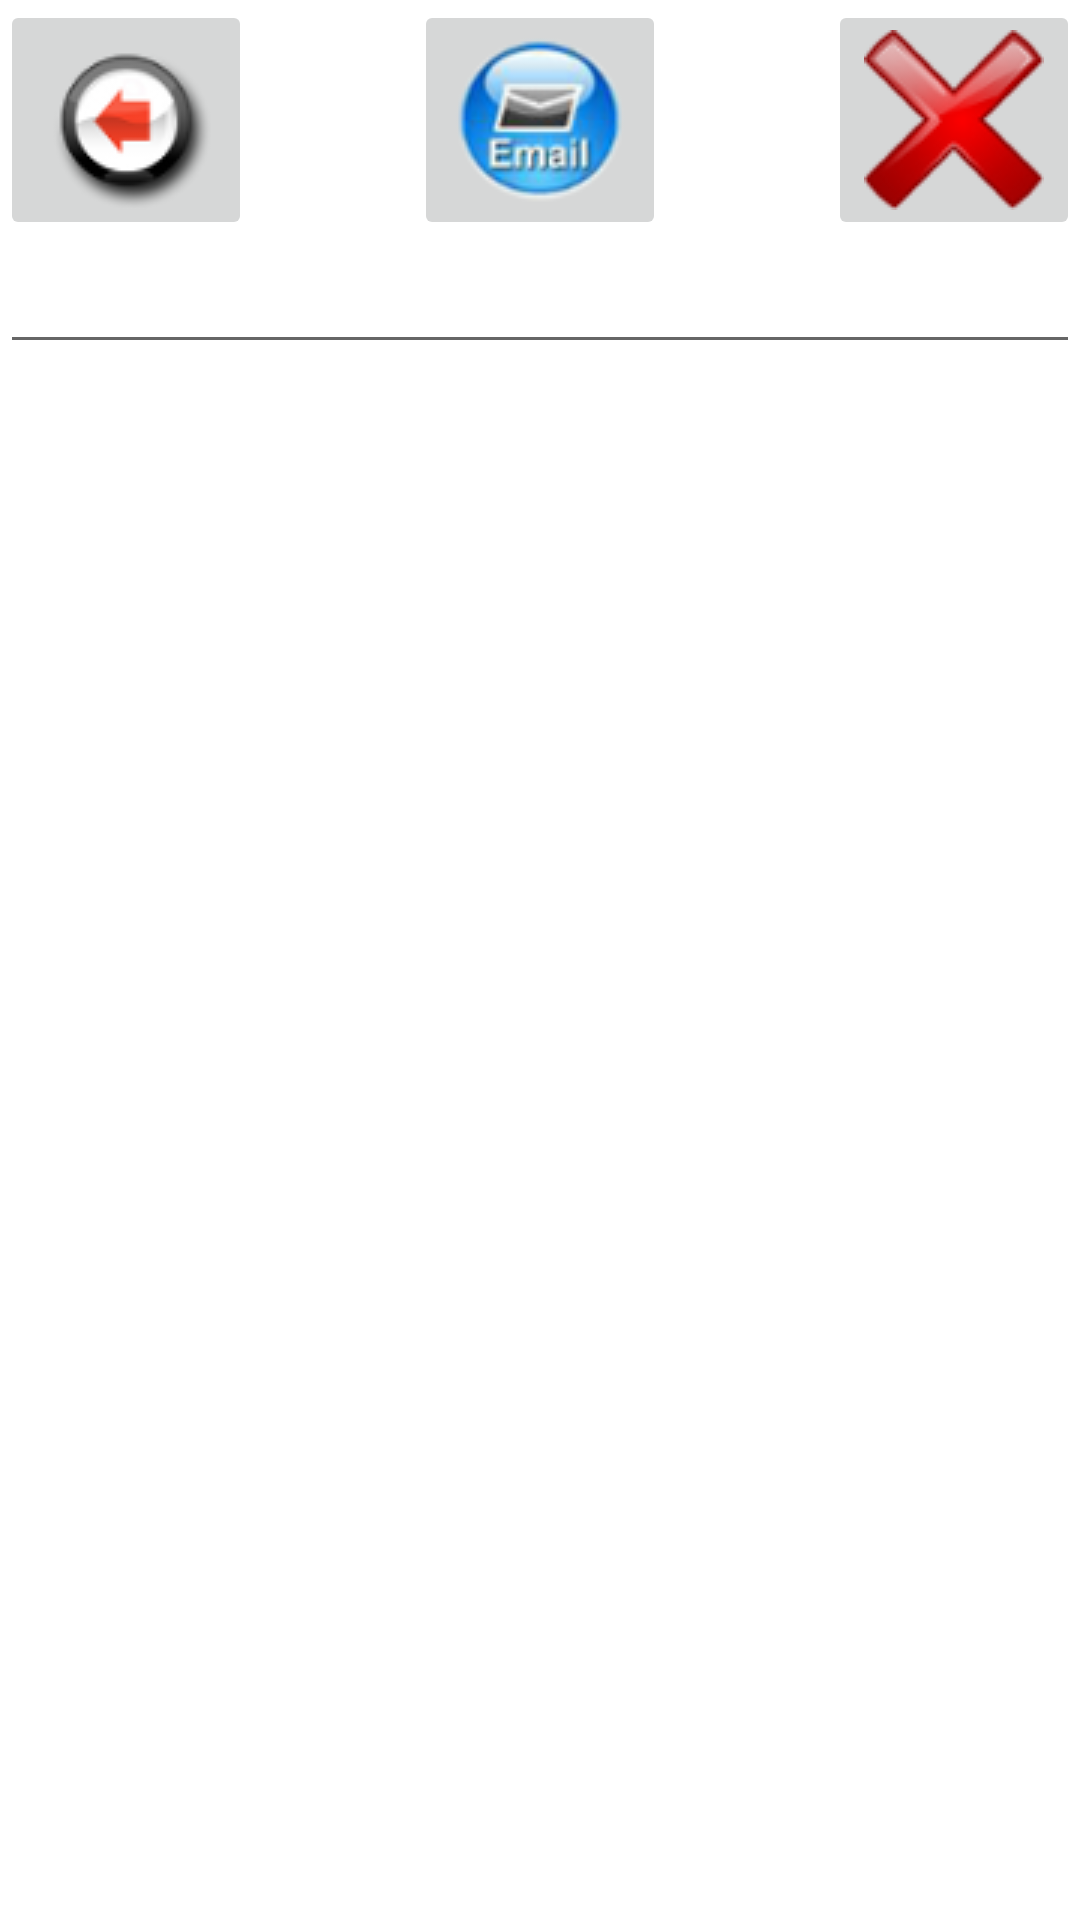

Named icons in this screenshot (1080x1920) and their bounding boxes, (x1, y1, x2, y2):
back: (12, 18, 240, 222)
clearlist: (840, 18, 1068, 222)
